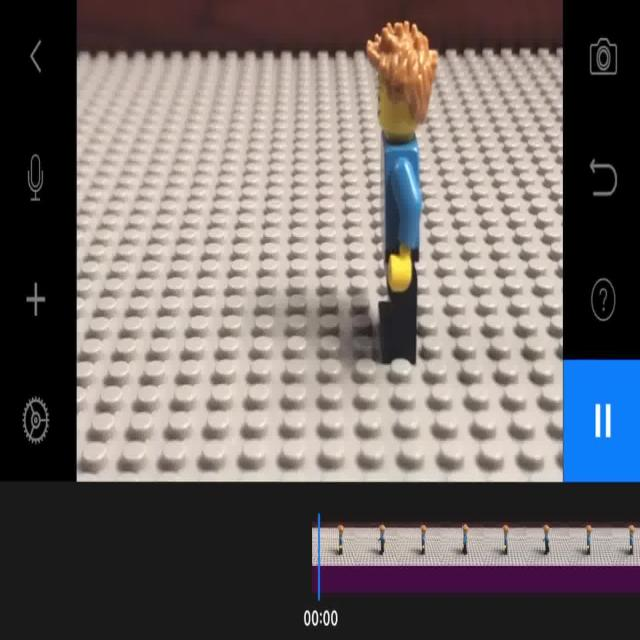4: (389, 158, 418, 295)
hand: (373, 30, 435, 366), (460, 525, 475, 554), (500, 518, 509, 555), (540, 522, 550, 555), (585, 525, 594, 553), (378, 526, 387, 551), (629, 523, 635, 554), (421, 523, 426, 554), (336, 528, 342, 552)
